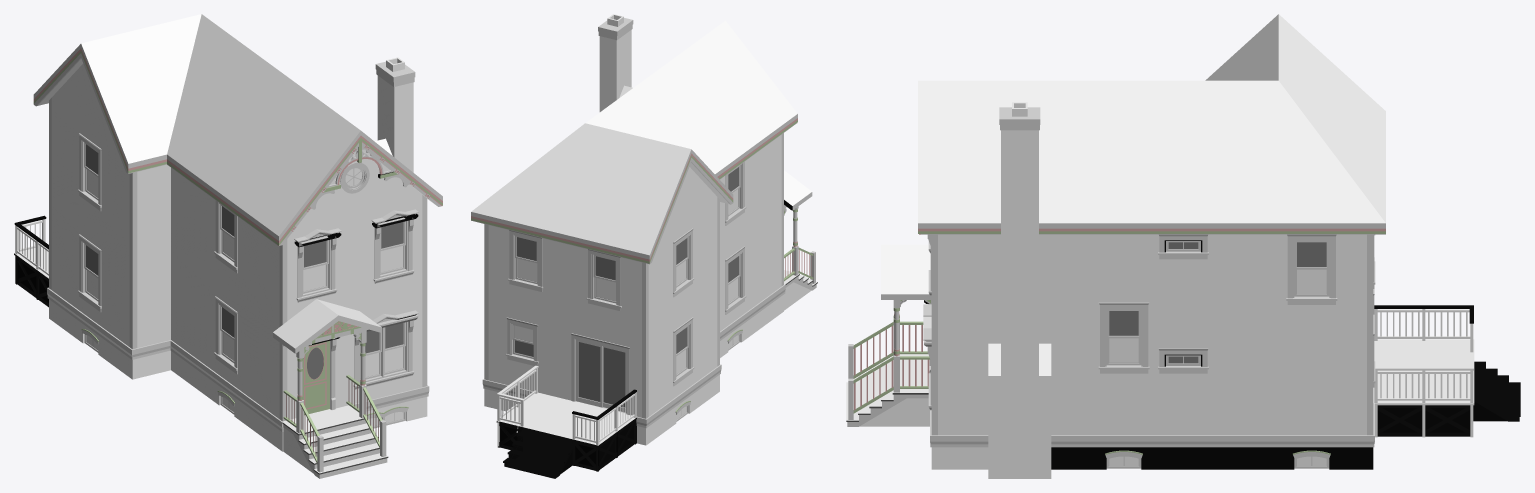
File: 3d-model country home.fbx
3 renders of one model, left to right at view 1: azimuth 30°, elevation 25°; view 2: azimuth 150°, elevation 25°; view 3: azimuth 270°, elevation 25°, orthographic. The views are drawn at different scales.
Visible parts, largest first — view 1: Roof_001, Layer0_001, Second Floor_001; view 2: Roof_001, Layer0_001, Second Floor_001; view 3: Layer0_001, Roof_001, Second Floor_001.
Boxes of the visible parts, x1,y1,x2,y2 form: Roof_001: (33,14,442,245); Layer0_001: (14,197,429,478); Second Floor_001: (49,106,427,353); Roof_001: (471,14,797,264); Layer0_001: (482,205,817,478); Second Floor_001: (484,133,812,359); Layer0_001: (846,257,1520,478); Roof_001: (918,14,1385,238); Second Floor_001: (881,234,1375,341).
Size of the model in its own units: 262 by 386 by 641.
